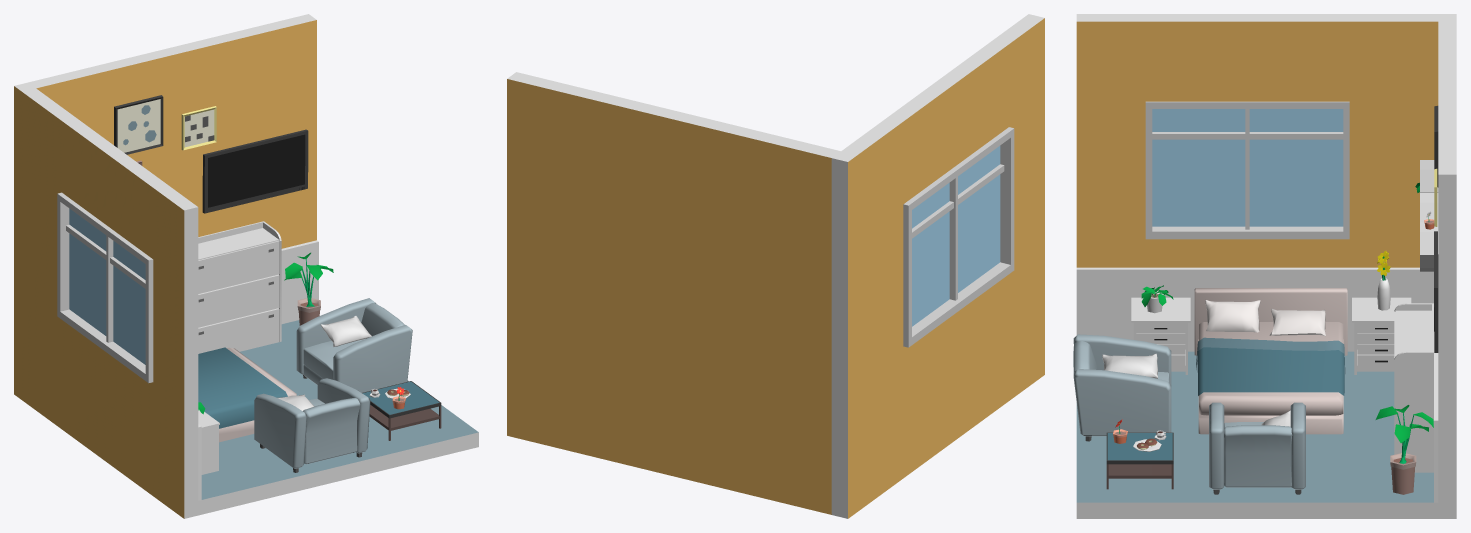
Rendered from room_28.glb.
3 views of the same model, side by side, from view 1: azimuth 30°, elevation 25°; view 2: azimuth 150°, elevation 25°; view 3: azimuth 270°, elevation 25° (orthographic). The views are drawn at different scales.
Parts seen in each view (by area): view 1: Walls_010.001, Walls_010.002, Walls_010.003, Walls_116.025, window_019.004, shelf_030.002, Walls_010.004, Walls_010.005, armchair_008.001, armchair_008.002, electronics_027.007, bed_017.003 (+6 smaller); view 2: Walls_010.001, Walls_010.002, window_019.004, Walls_010.004, Walls_010.003, Walls_010.005; view 3: window_019.004, Walls_116.025, Walls_010.002, bed_017.003, Walls_010.003, Walls_010.005, Walls_003.060, Walls_010.001, armchair_008.002, armchair_008.001, shelf_030.002, Walls_010.004 (+11 smaller).
Boxes of the visible parts, bbox=[...] form: Walls_010.001: bbox=[28, 14, 316, 248]; Walls_010.002: bbox=[14, 82, 75, 429]; Walls_010.003: bbox=[151, 183, 198, 518]; Walls_116.025: bbox=[198, 320, 478, 515]; window_019.004: bbox=[57, 192, 153, 383]; shelf_030.002: bbox=[198, 221, 281, 353]; Walls_010.004: bbox=[62, 320, 151, 494]; Walls_010.005: bbox=[62, 118, 165, 257]; armchair_008.001: bbox=[296, 298, 412, 392]; armchair_008.002: bbox=[254, 378, 370, 472]; electronics_027.007: bbox=[202, 129, 308, 213]; bed_017.003: bbox=[198, 347, 296, 442]; Walls_010.001: bbox=[507, 72, 840, 514]; Walls_010.002: bbox=[831, 117, 904, 518]; window_019.004: bbox=[903, 127, 1014, 347]; Walls_010.004: bbox=[904, 276, 1007, 477]; Walls_010.003: bbox=[991, 14, 1044, 401]; Walls_010.005: bbox=[888, 41, 1007, 203]; window_019.004: bbox=[1145, 101, 1349, 239]; Walls_116.025: bbox=[1076, 351, 1438, 518]; Walls_010.002: bbox=[1348, 14, 1456, 267]; bed_017.003: bbox=[1194, 288, 1347, 434]; Walls_010.003: bbox=[1076, 14, 1148, 267]; Walls_010.005: bbox=[1149, 14, 1347, 101]; Walls_003.060: bbox=[1076, 267, 1433, 351]; Walls_010.001: bbox=[1438, 21, 1456, 518]; armchair_008.002: bbox=[1073, 334, 1171, 441]; armchair_008.001: bbox=[1209, 402, 1305, 494]; shelf_030.002: bbox=[1394, 303, 1433, 472]; Walls_010.004: bbox=[1149, 239, 1347, 267].
Size of the model in its own units: 4.26 by 4.2 by 4.23.
Materials: 1 (1 with a texture image).
